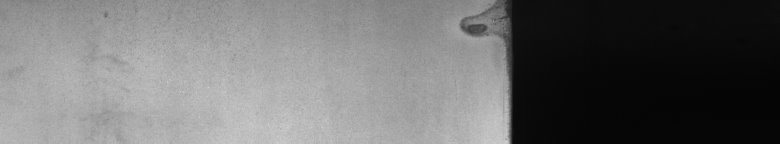hb: (453, 4, 496, 46)
